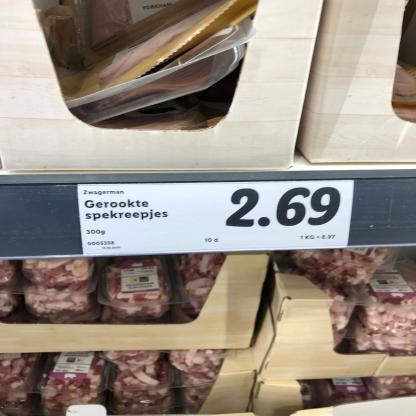prtg: (78, 181, 356, 257)
